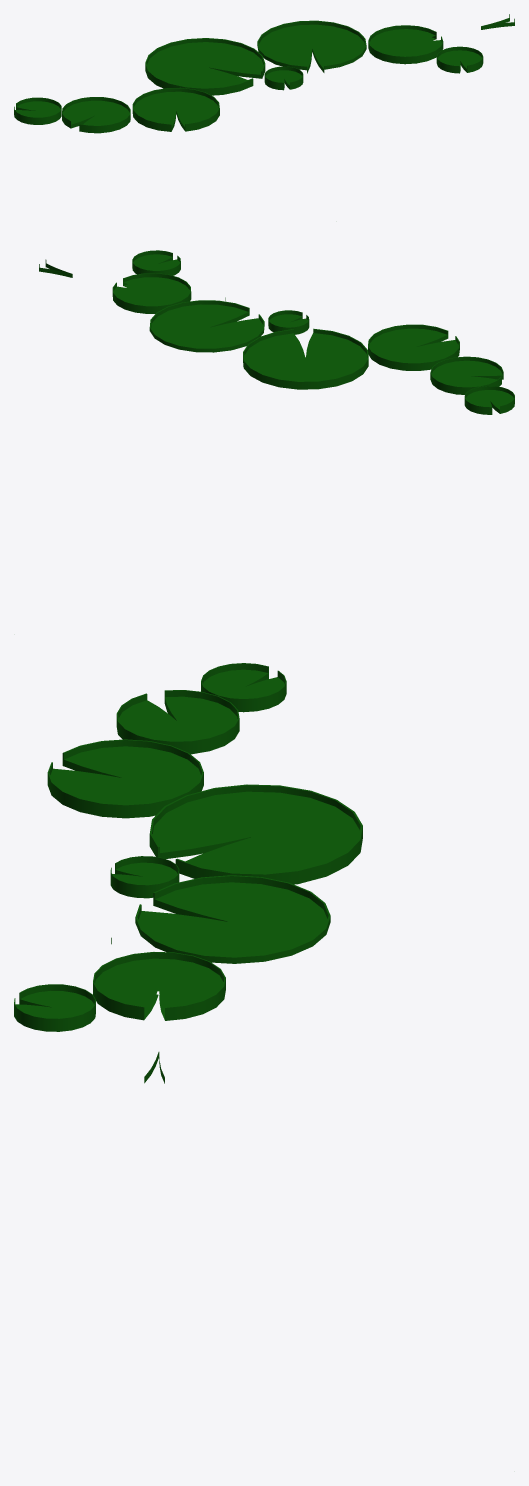
The model's file is lilypad3.glb.
The picture shows the model from 3 angles, top to bottom: view 1: azimuth 30°, elevation 25°; view 2: azimuth 150°, elevation 25°; view 3: azimuth 270°, elevation 25°; orthographic projection. The views are drawn at different scales.
Visible parts, largest first — view 1: Object_2.029; view 2: Object_2.029; view 3: Object_2.029.
Boxes of the visible parts, x1,y1,x2,y2 form: Object_2.029: (14,20,483,133); Object_2.029: (112,250,514,414); Object_2.029: (14,663,362,1031).
Size of the model in its own units: 7.11 by 3.77 by 3.68.
Materials: 2 (2 with a texture image).
